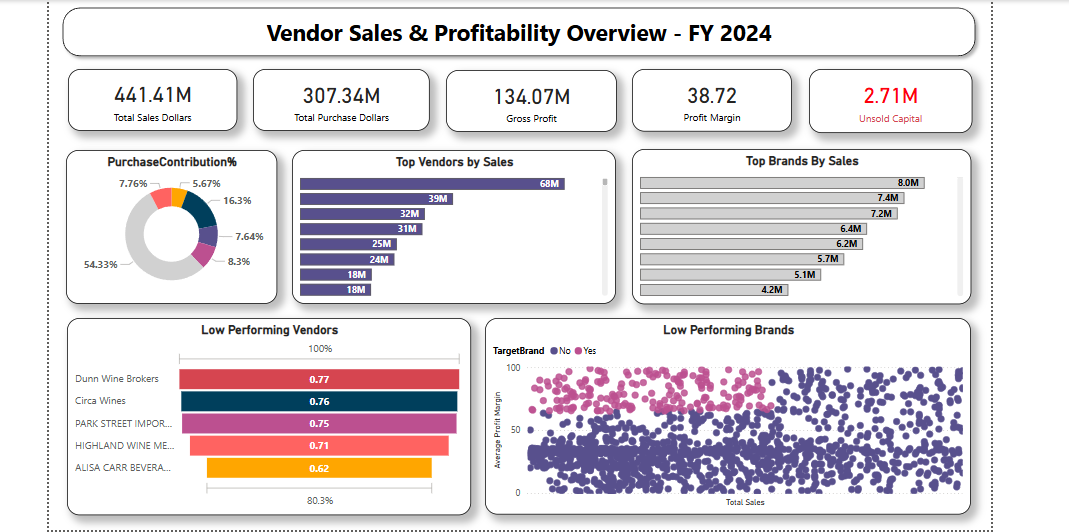

The dashboard page shown, as its layout file describes it:
{"tool":"powerbi","page":{"name":"Page 1","canvas":[1280,720],"ordinal":0},"visuals":[{"type":"shape","box":[9.6,1.4,1258,84],"z":0},{"type":"card","fields":{"Values":["Sum(vendor_sales_summary.TotalSalesDollars)"]},"box":[26.2,93.6,229.8,84],"z":1000},{"type":"card","fields":{"Values":["Sum(vendor_sales_summary.TotalPurchaseDollars)"]},"box":[277.1,93.7,240.5,84.2],"z":2000},{"type":"card","fields":{"Values":["Sum(vendor_sales_summary.GrossProfit)"]},"box":[539.3,95.1,232.3,84.2],"z":3000},{"type":"card","fields":{"Values":["Avg(vendor_sales_summary.ProfitMargin)"]},"box":[791.4,93.6,217.5,85.3],"z":4000},{"type":"card","fields":{"Values":["Sum(vendor_sales_summary.UnsoldInventoryValue)"]},"box":[1032.3,93.6,221.6,86.7],"z":5000},{"type":"donutChart","title":"PurchaseContribution%","fields":{"Y":["Sum(PurchaseContribution.PurchaseContribution%)"],"Series":["PurchaseContribution.VendorsGroup"]},"box":[23.1,203.8,286.6,209.2],"z":6000},{"type":"barChart","title":"Top Vendors by Sales","fields":{"Y":["Sum(vendor_sales_summary.TotalSalesDollars)"],"Category":["vendor_sales_summary.VendorName"]},"box":[330.1,203.8,440.2,209.2],"z":7000},{"type":"barChart","title":"Top Brands By Sales","fields":{"Category":["vendor_sales_summary.Description"],"Y":["Sum(vendor_sales_summary.TotalSalesDollars)"]},"box":[792,202.6,461,211.1],"z":8000},{"type":"funnel","title":"Low Performing Vendors","fields":{"Y":["Avg(LowTrunOverVendor.AvgStockTurnOver)"],"Category":["LowTrunOverVendor.VendorName"]},"box":[24.5,432,548.8,267.6],"z":9000},{"type":"scatterChart","title":"Low Performing Brands","fields":{"Category":["BrandPerformance.Description"],"Series":["BrandPerformance.TargetBrand"],"X":["Sum(BrandPerformance.TotalSales)"],"Y":["Sum(BrandPerformance.AvgProfitMargin)"]},"box":[592.7,432.3,660.3,266.8],"z":10000}]}

Visuals, with their boxes in screenshot pixels (x1, y1, x2, y2):
shape: 57:1:973:62
card - Sum(vendor_sales_summary.TotalSalesDollars): 69:68:237:129
card - Sum(vendor_sales_summary.TotalPurchaseDollars): 252:68:427:130
card - Sum(vendor_sales_summary.GrossProfit): 443:69:612:131
card - Avg(vendor_sales_summary.ProfitMargin): 626:68:785:130
card - Sum(vendor_sales_summary.UnsoldInventoryValue): 802:68:963:131
"PurchaseContribution%" donutChart: 67:148:276:301
"Top Vendors by Sales" barChart: 291:148:611:301
"Top Brands By Sales" barChart: 627:148:963:301
"Low Performing Vendors" funnel: 68:315:468:510
"Low Performing Brands" scatterChart: 482:315:963:509
